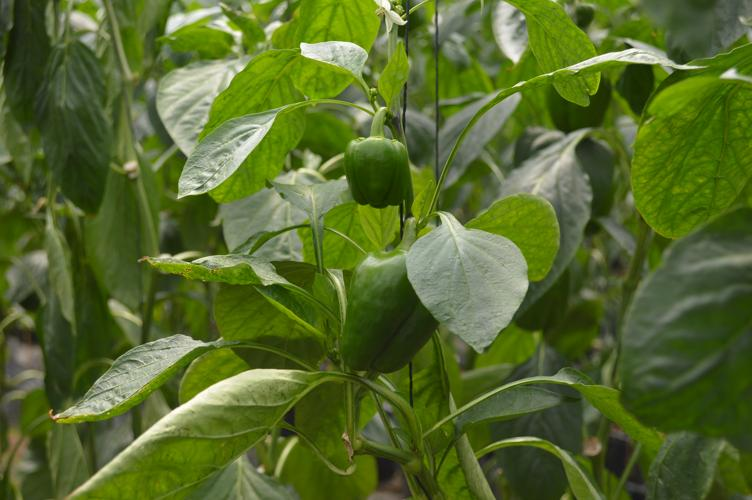BellPepper: (338, 251, 437, 373), (341, 138, 413, 205)
